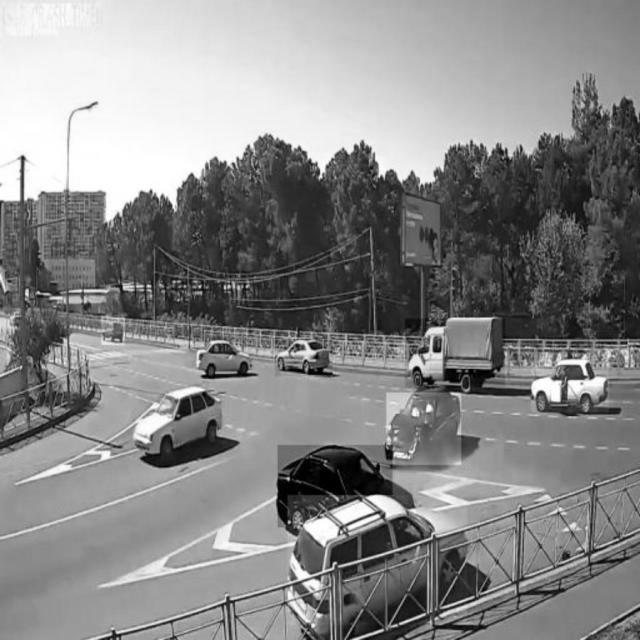vehicle: (288, 496, 468, 626), (278, 445, 392, 527), (133, 382, 223, 458), (405, 319, 505, 387), (387, 393, 461, 465), (532, 356, 609, 413), (198, 338, 254, 378), (274, 340, 332, 377), (101, 315, 125, 345)
